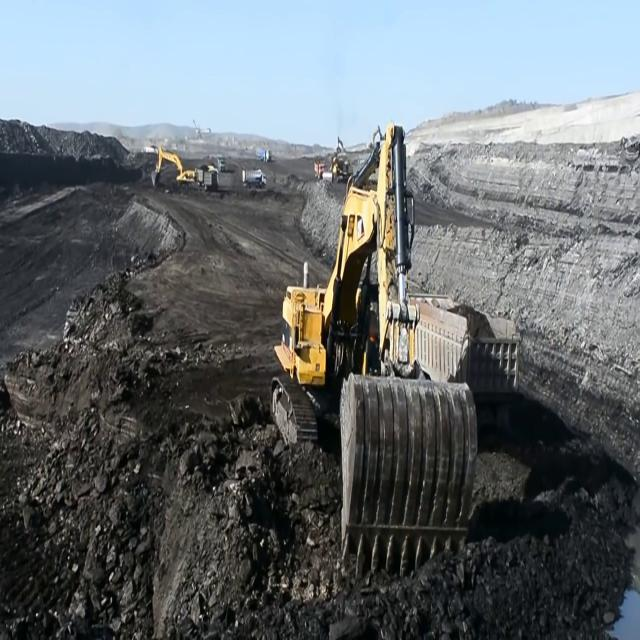excavator: (270, 121, 478, 583), (142, 147, 203, 193)
